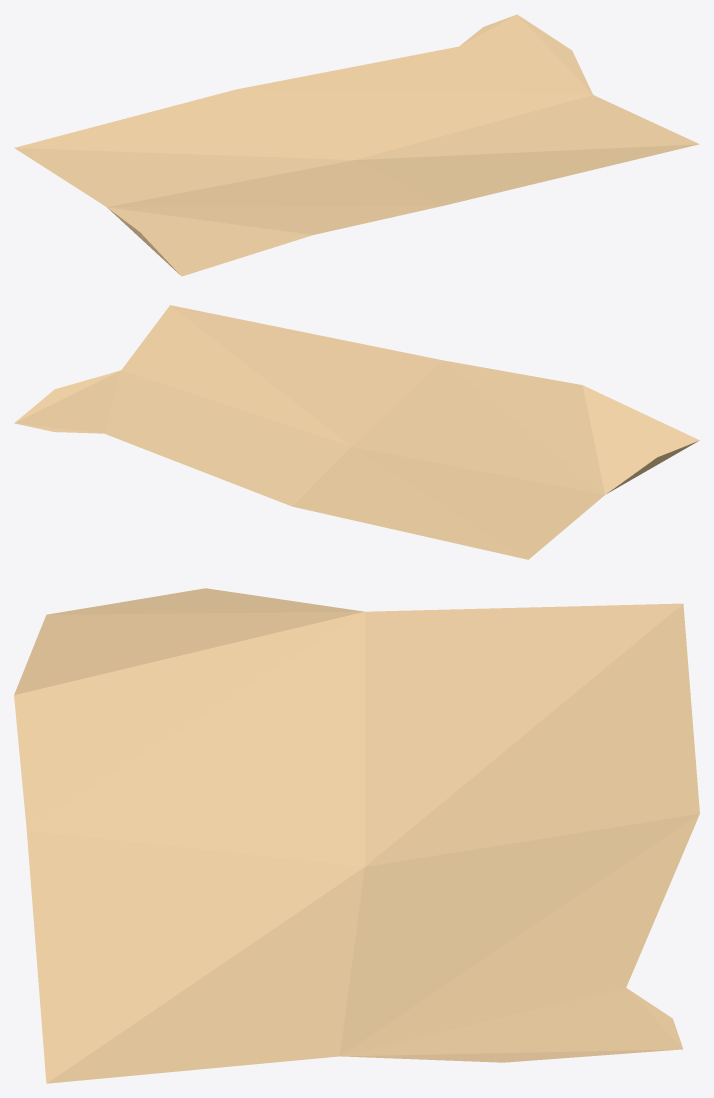
Rendered from Prop_Paper_Parchment_Map_Letter_Worn_01.FBX.
3 renders of one model, top to bottom at view 1: azimuth 30°, elevation 25°; view 2: azimuth 150°, elevation 25°; view 3: azimuth 270°, elevation 25°, orthographic. The views are drawn at different scales.
Parts seen in each view (by area): view 1: Prop_Paper_Parchment_Map_Letter_Worn_01; view 2: Prop_Paper_Parchment_Map_Letter_Worn_01; view 3: Prop_Paper_Parchment_Map_Letter_Worn_01.
Boxes of the visible parts, box(x1,y1,x2,y2) form: Prop_Paper_Parchment_Map_Letter_Worn_01: box(14, 14, 699, 276); Prop_Paper_Parchment_Map_Letter_Worn_01: box(14, 305, 699, 559); Prop_Paper_Parchment_Map_Letter_Worn_01: box(14, 588, 699, 1083).
Size of the model in its own units: 874 by 40.73 by 528.
